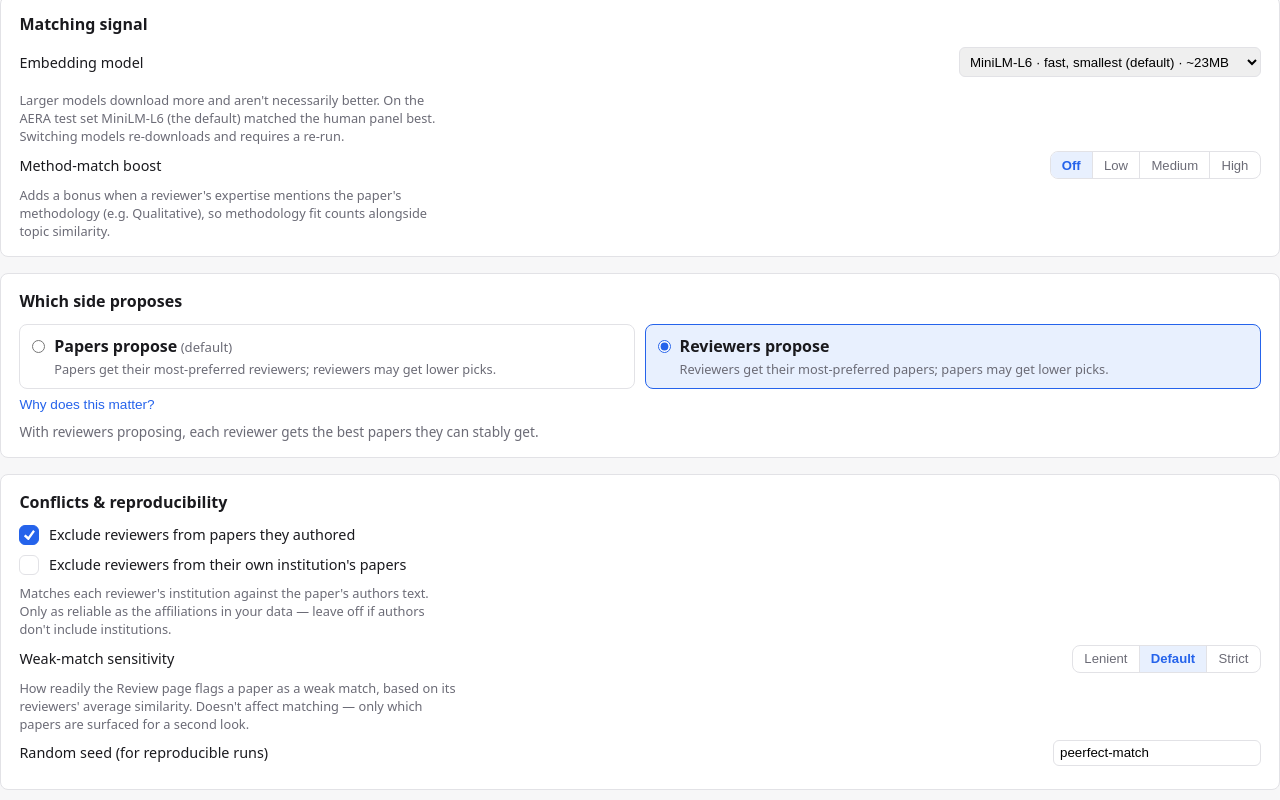
Test: SettingsScreen › reveals the proposing-side explanation on demand
The width and height of the screenshot is (1280, 800).
(page scrolled)
Expected: the text "advantages the proposing side" is not shown
Step 1. Click the button "Why does this matter?" → x=87, y=400, box [19,389,155,412]
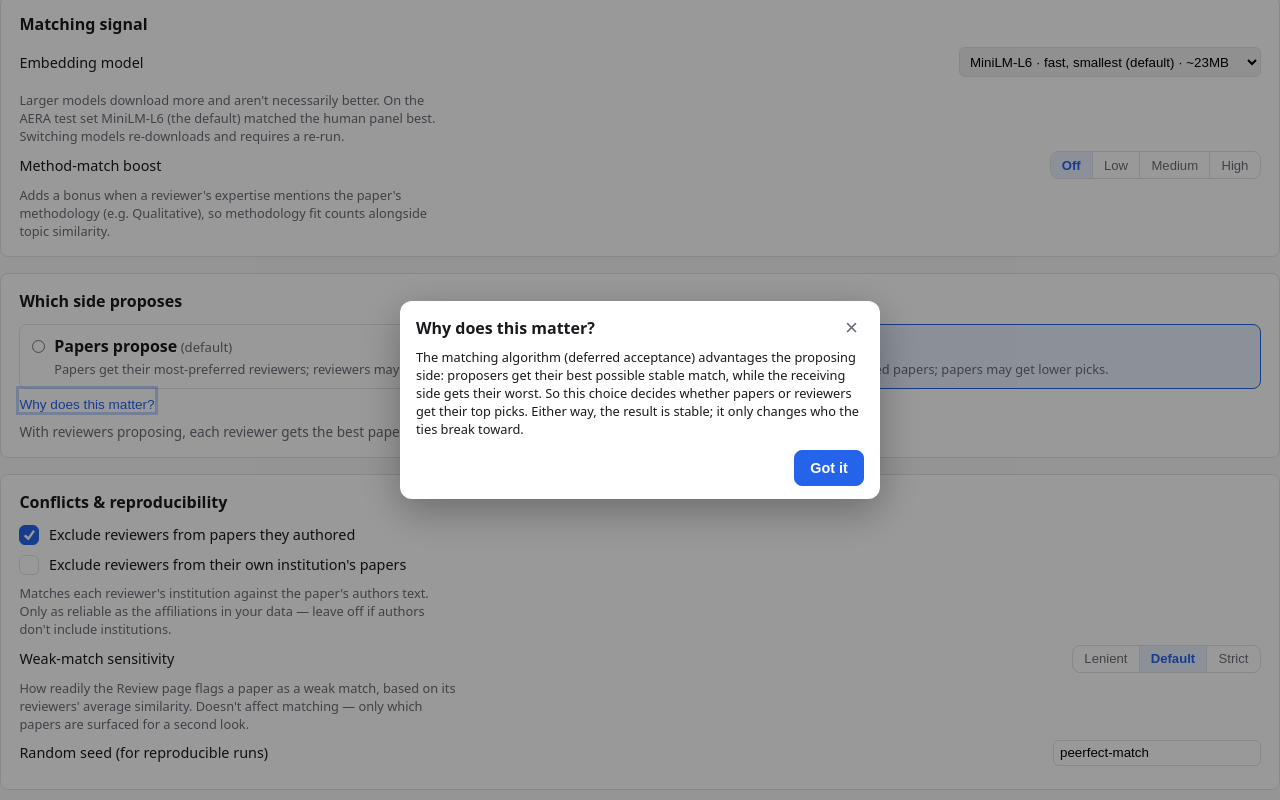
Result: the text "advantages the proposing side" is shown at [416,348,859,438]
